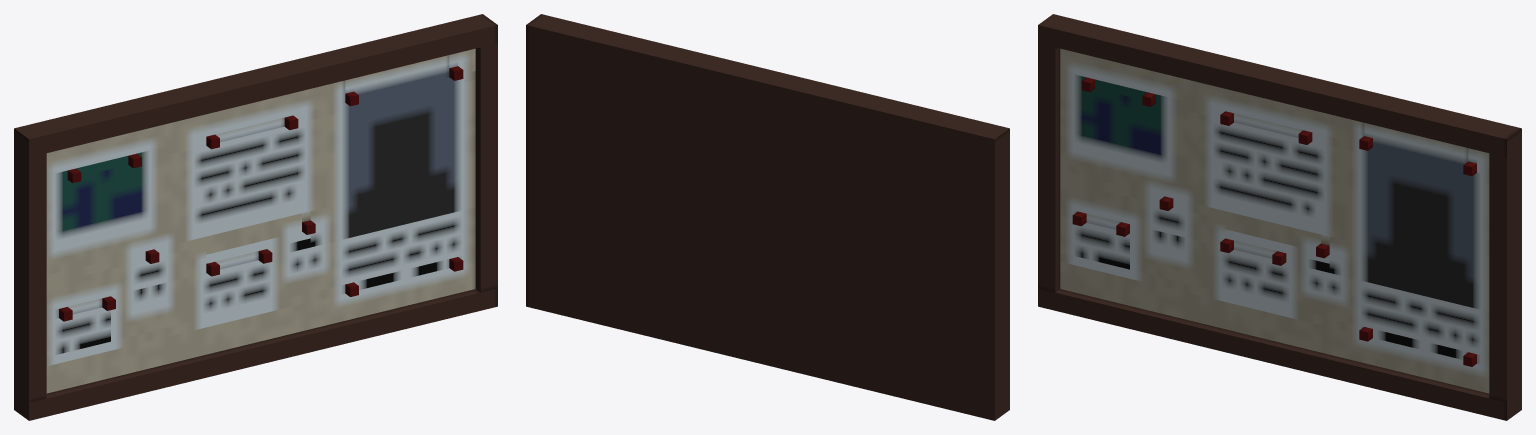
The model's file is tablica_korkowa_wazna.dae.
3 views of the same model, side by side, from view 1: azimuth 30°, elevation 25°; view 2: azimuth 150°, elevation 25°; view 3: azimuth 330°, elevation 25° (orthographic).
Visible parts, largest first — view 1: Content; view 2: Content; view 3: Content.
Boxes of the visible parts, left/top/right/bottom form: Content: left=14, top=14, right=497, bottom=420; Content: left=526, top=14, right=1009, bottom=420; Content: left=1038, top=14, right=1521, bottom=420.
Bounding box in the file's own units: 54 × 31 × 3.
1 material, 1 textured.
